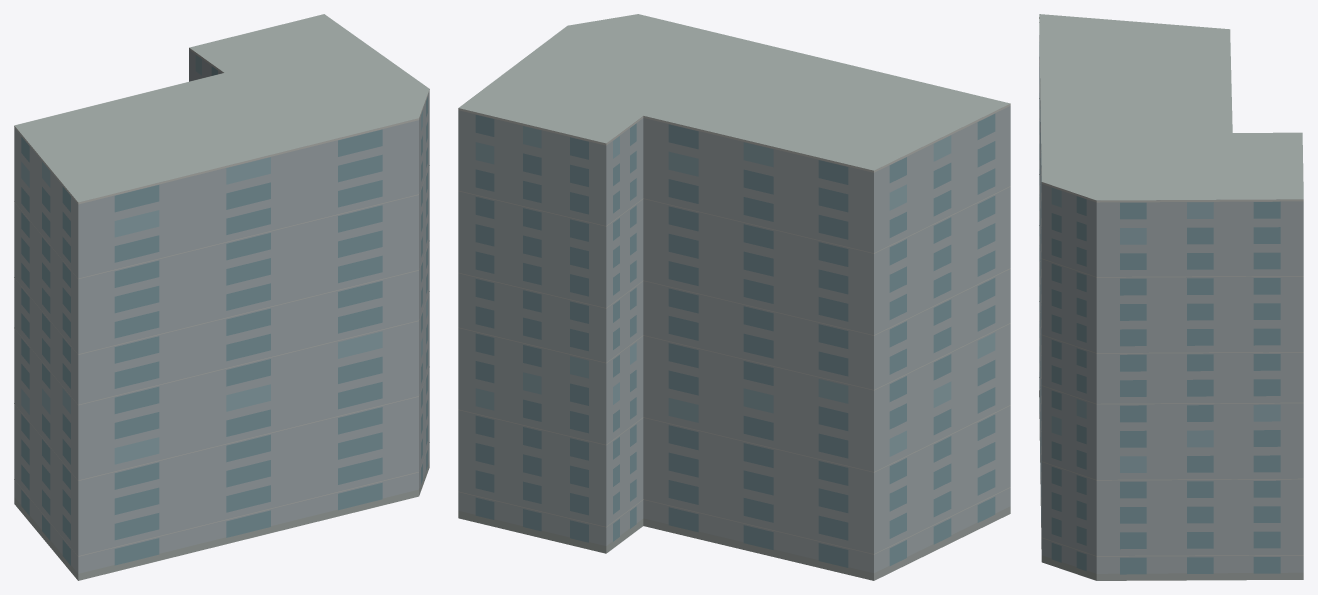
The model's file is survey-upis-32468389.glb.
3 views of the same model, side by side, from view 1: azimuth 30°, elevation 25°; view 2: azimuth 150°, elevation 25°; view 3: azimuth 270°, elevation 25° (orthographic). The views are drawn at different scales.
Parts seen in each view (by area): view 1: survey-upis-32468389.tmp; view 2: survey-upis-32468389.tmp; view 3: survey-upis-32468389.tmp.
Boxes of the visible parts, box(x1,y1,x2,y2) form: survey-upis-32468389.tmp: box(14, 14, 429, 580); survey-upis-32468389.tmp: box(458, 14, 1010, 580); survey-upis-32468389.tmp: box(1039, 14, 1303, 580).
Size of the model in its own units: 48.11 by 45.75 by 28.87.
